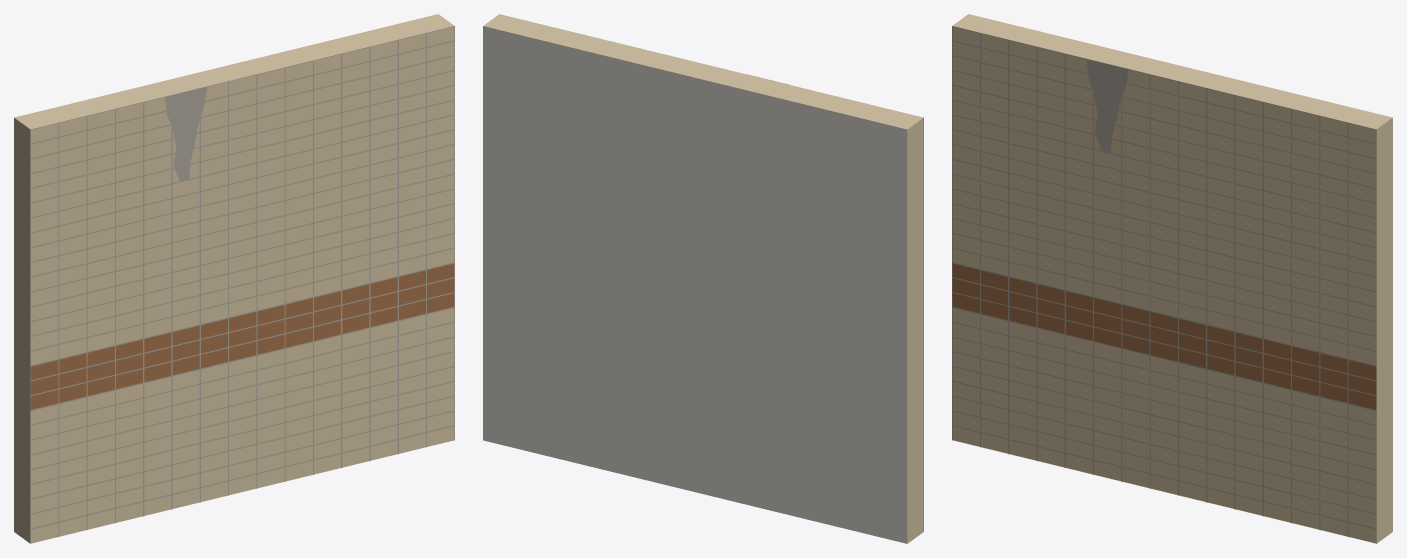
Rendered from SC_Bld_Villa_Wall_Tiled_3m.gltf.
3 renders of one model, left to right at view 1: azimuth 30°, elevation 25°; view 2: azimuth 150°, elevation 25°; view 3: azimuth 330°, elevation 25°, orthographic.
Parts seen in each view (by area): view 1: SC_Bld_Villa_Wall_Tiled_3m; view 2: SC_Bld_Villa_Wall_Tiled_3m; view 3: SC_Bld_Villa_Wall_Tiled_3m.
Boxes of the visible parts, left/top/right/bottom form: SC_Bld_Villa_Wall_Tiled_3m: left=14, top=14, right=454, bottom=543; SC_Bld_Villa_Wall_Tiled_3m: left=483, top=14, right=923, bottom=543; SC_Bld_Villa_Wall_Tiled_3m: left=952, top=14, right=1392, bottom=543.
Size of the model in its own units: 3 by 2.8 by 0.2015.
Materials: 1 (1 with a texture image).
